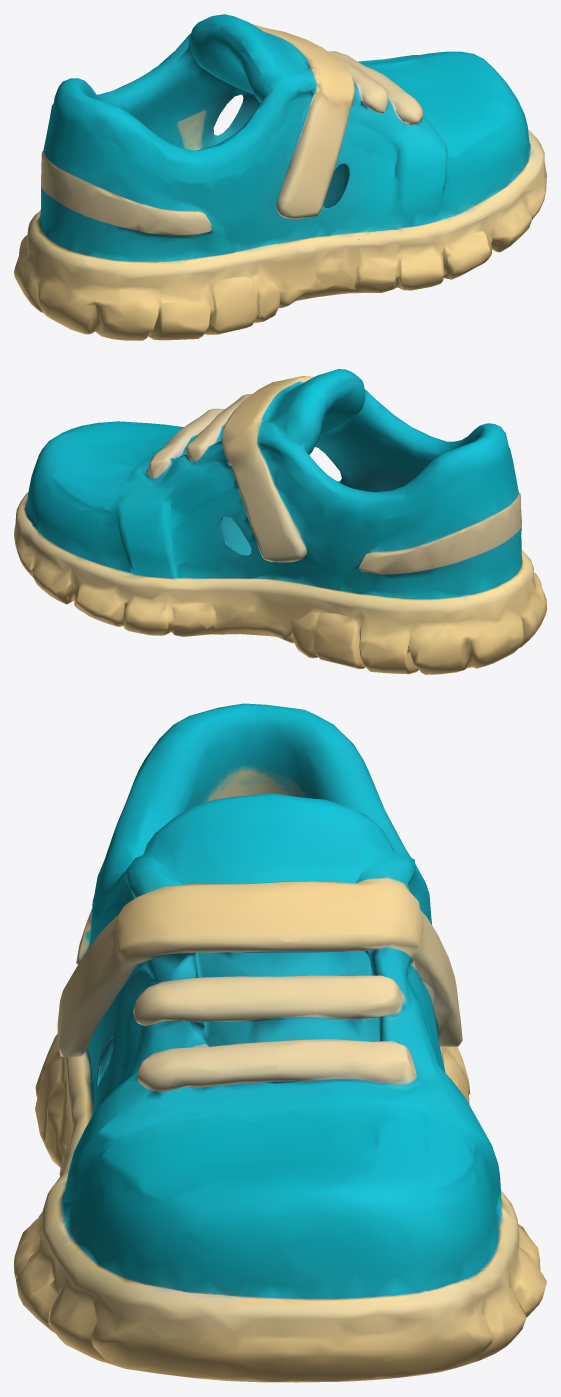
File: shoe.fbx
3 renders of one model, top to bottom at view 1: azimuth 30°, elevation 25°; view 2: azimuth 150°, elevation 25°; view 3: azimuth 270°, elevation 25°, orthographic. The views are drawn at different scales.
Parts seen in each view (by area): view 1: tripo_node_f683cc0f; view 2: tripo_node_f683cc0f; view 3: tripo_node_f683cc0f.
Boxes of the visible parts, x1,y1,x2,y2 form: tripo_node_f683cc0f: (14,14,546,340); tripo_node_f683cc0f: (14,369,546,674); tripo_node_f683cc0f: (14,703,546,1382).
Size of the model in its own units: 1 by 0.4646 by 0.5543.
1 material, 1 textured.
